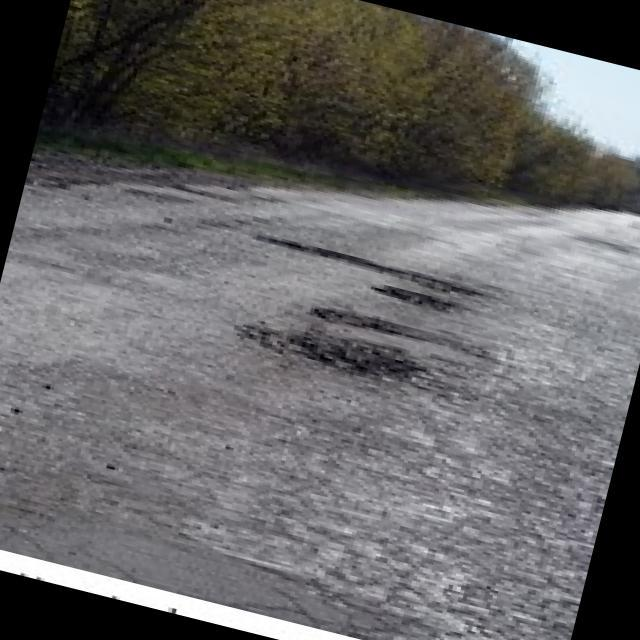Pothole: (246, 228, 481, 300), (228, 312, 428, 396), (304, 296, 464, 357), (369, 279, 460, 315)
